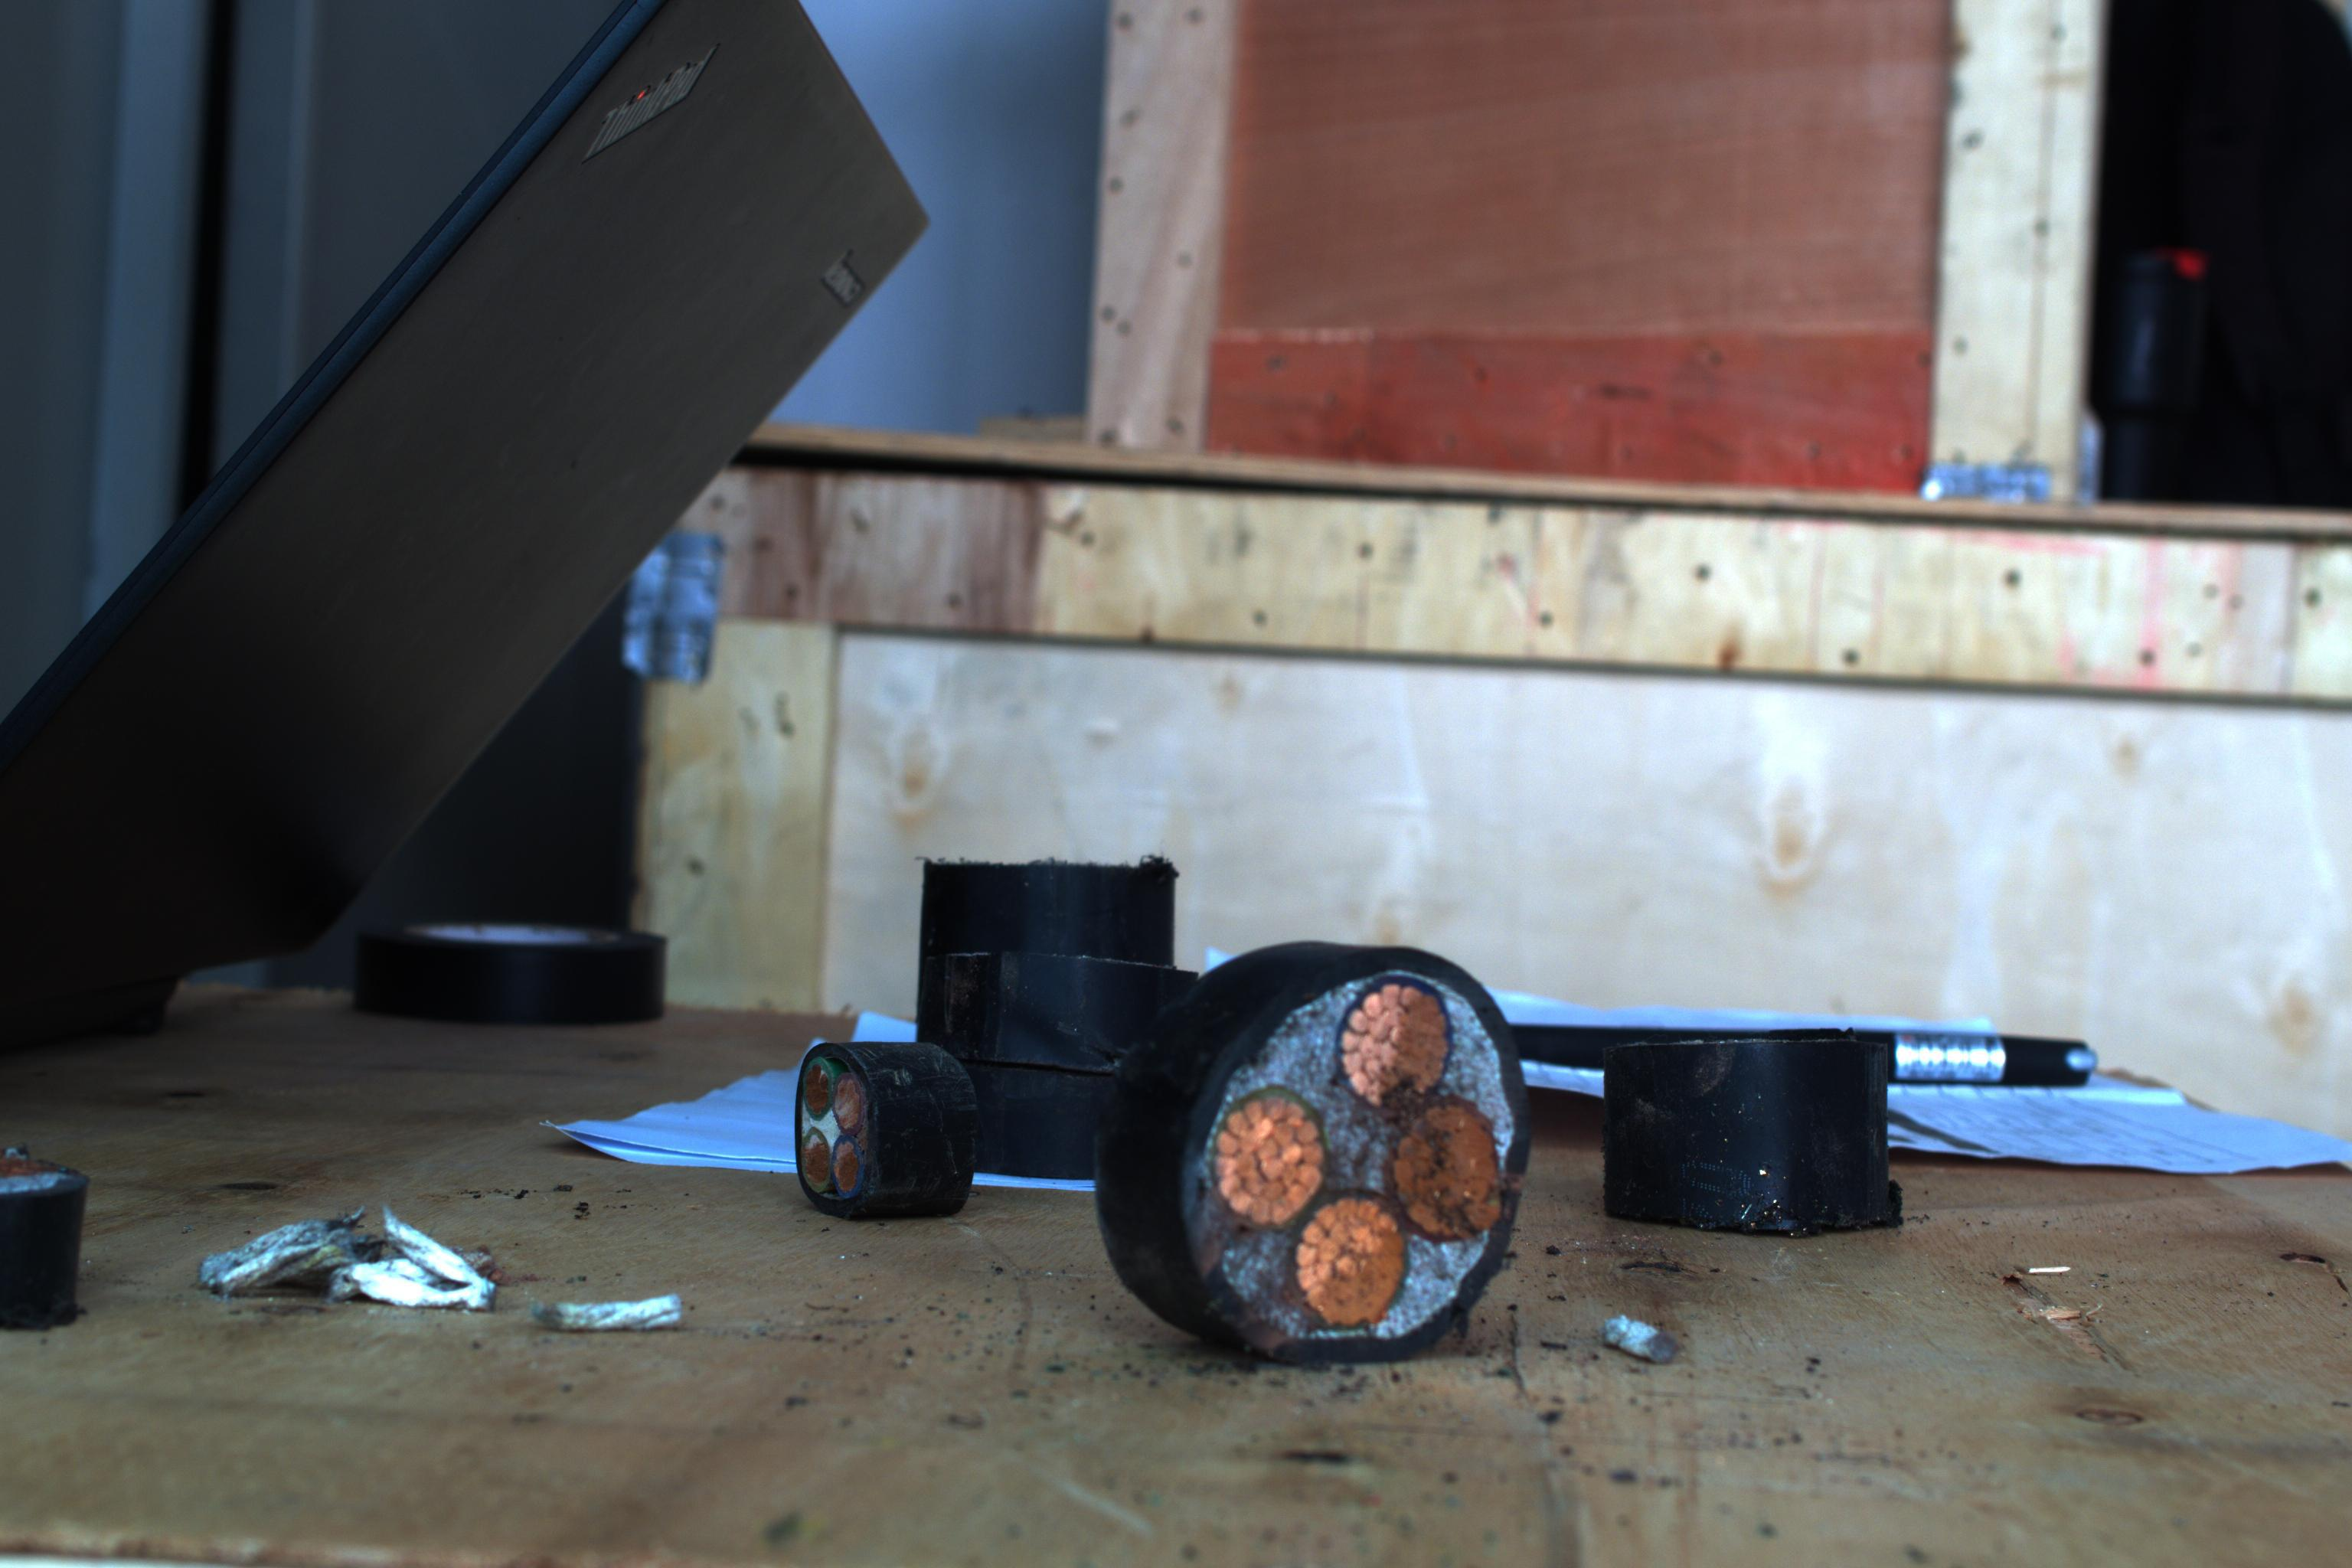YJV_0.6_1kV_4x120: (1162, 926, 1554, 1368)
